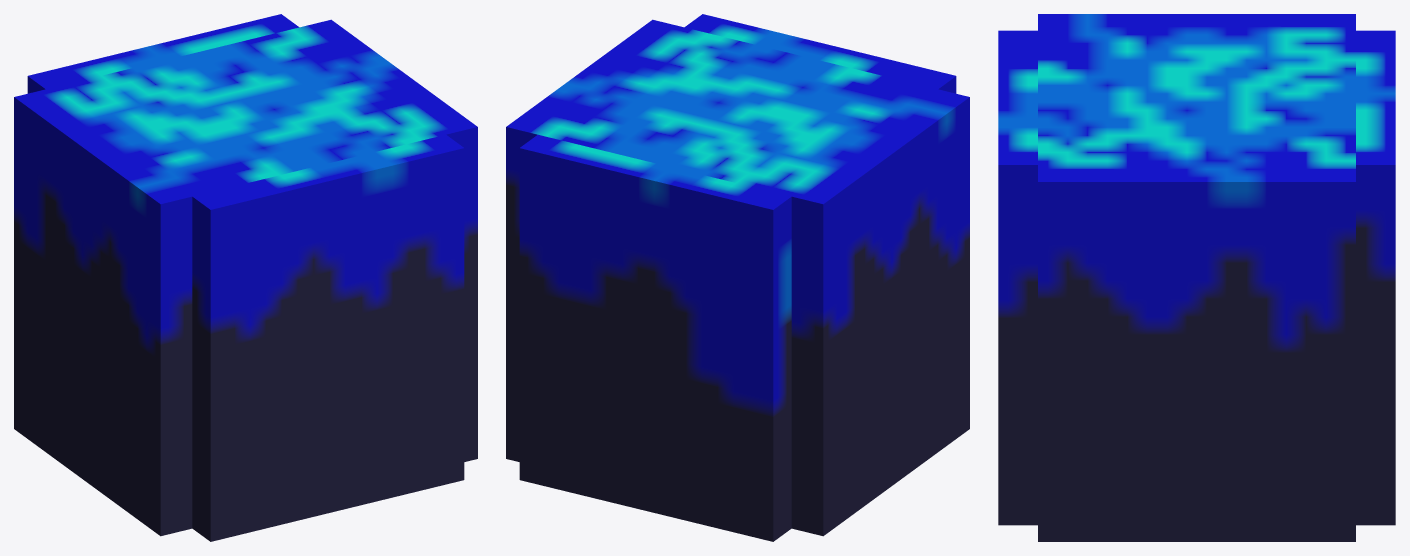
File: IceTrap_2.fbx
3 renders of one model, left to right at view 1: azimuth 30°, elevation 25°; view 2: azimuth 150°, elevation 25°; view 3: azimuth 270°, elevation 25°, orthographic. The views are drawn at different scales.
Visible parts, largest first — view 1: IceTrap_2; view 2: IceTrap_2; view 3: IceTrap_2.
Boxes of the visible parts, x1=… form: IceTrap_2: x1=14, y1=14, x2=477, y2=541; IceTrap_2: x1=506, y1=14, x2=969, y2=541; IceTrap_2: x1=998, y1=14, x2=1395, y2=541.
Size of the model in its own units: 20 by 20 by 20.
Materials: 1 (1 with a texture image).
